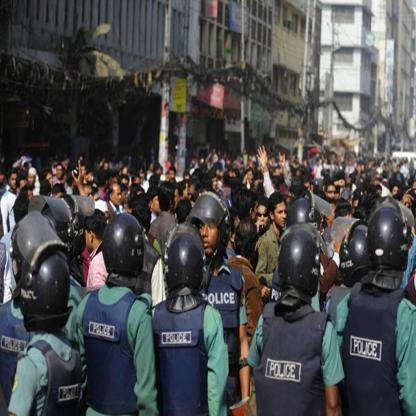face: (198, 213, 219, 255), (275, 202, 288, 228), (258, 206, 270, 229), (338, 211, 351, 229), (353, 200, 363, 220), (86, 227, 94, 251), (113, 185, 122, 205), (85, 187, 95, 205), (329, 205, 338, 225), (153, 194, 161, 214), (327, 186, 336, 203), (251, 202, 259, 221), (102, 210, 110, 228), (11, 174, 19, 190), (123, 166, 131, 181), (94, 193, 101, 209), (123, 190, 130, 205), (28, 189, 35, 203), (47, 173, 54, 187), (234, 216, 241, 230), (138, 170, 145, 183), (189, 181, 196, 194), (393, 187, 400, 199), (57, 166, 63, 179), (212, 177, 218, 190), (304, 181, 311, 192), (29, 174, 35, 186), (20, 181, 26, 193), (135, 179, 141, 191), (81, 167, 87, 177), (185, 184, 189, 198), (23, 164, 28, 175), (377, 190, 383, 199), (335, 191, 340, 200), (1, 172, 5, 183), (248, 172, 252, 183), (170, 170, 174, 180), (105, 163, 109, 172), (159, 168, 163, 177), (175, 189, 179, 198), (412, 180, 416, 189), (115, 176, 119, 184), (277, 169, 281, 177), (90, 172, 93, 181), (167, 175, 170, 183), (65, 177, 68, 184)
